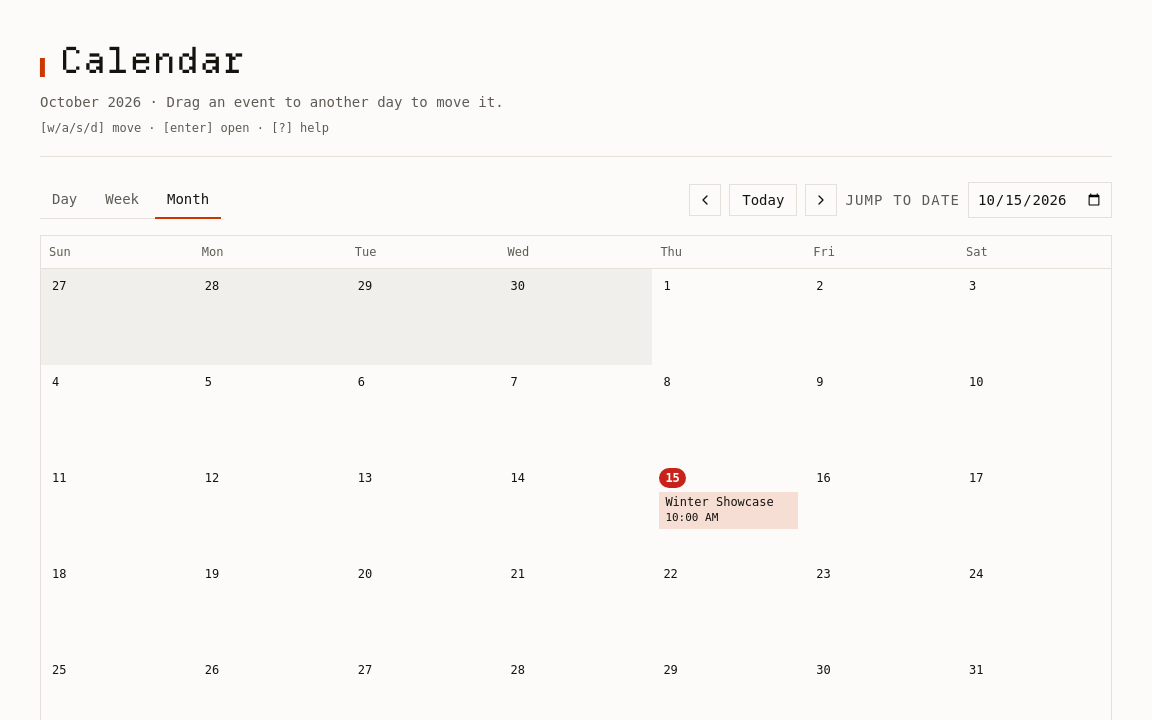
it: CalendarPage › closes the overview on Escape and gives focus back to the event button
Click the button with aria-label "open winter showcase": x=729, y=510 [665,494,792,526]
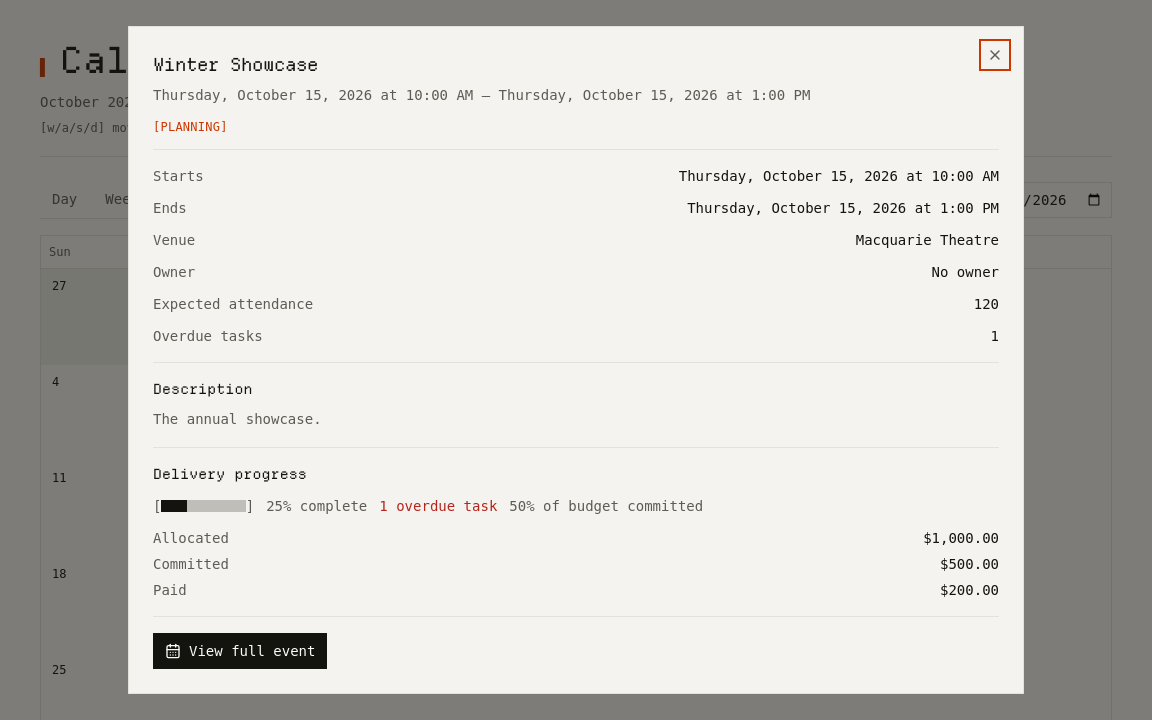
Result: the dialog is shown
Press Escape
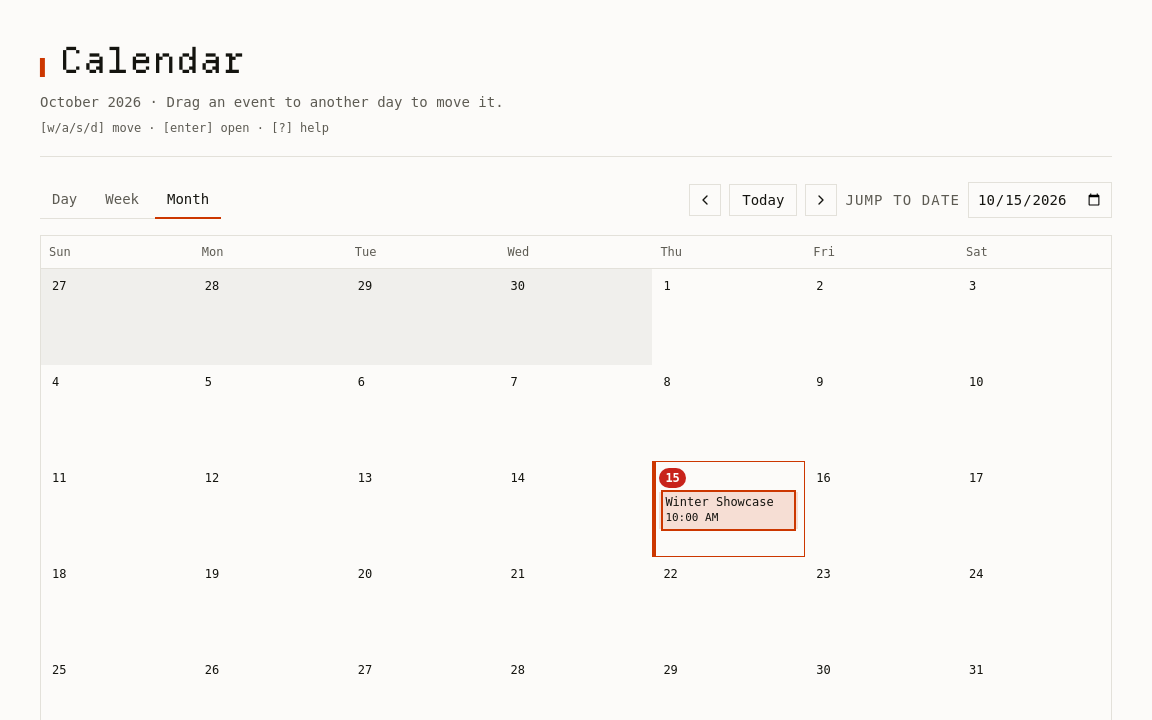
Result: the dialog is gone
